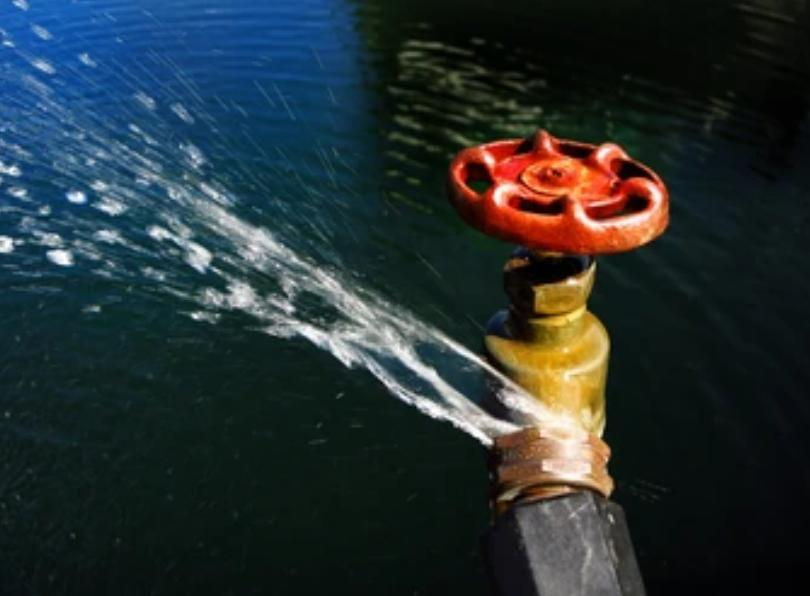pipe burst: (0, 140, 584, 449)
